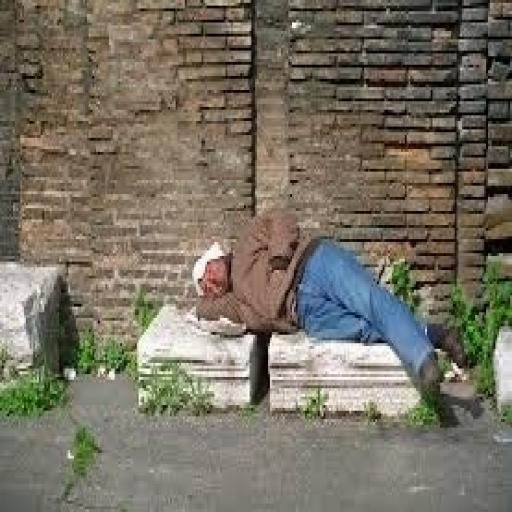sleeping: (190, 202, 482, 428)
